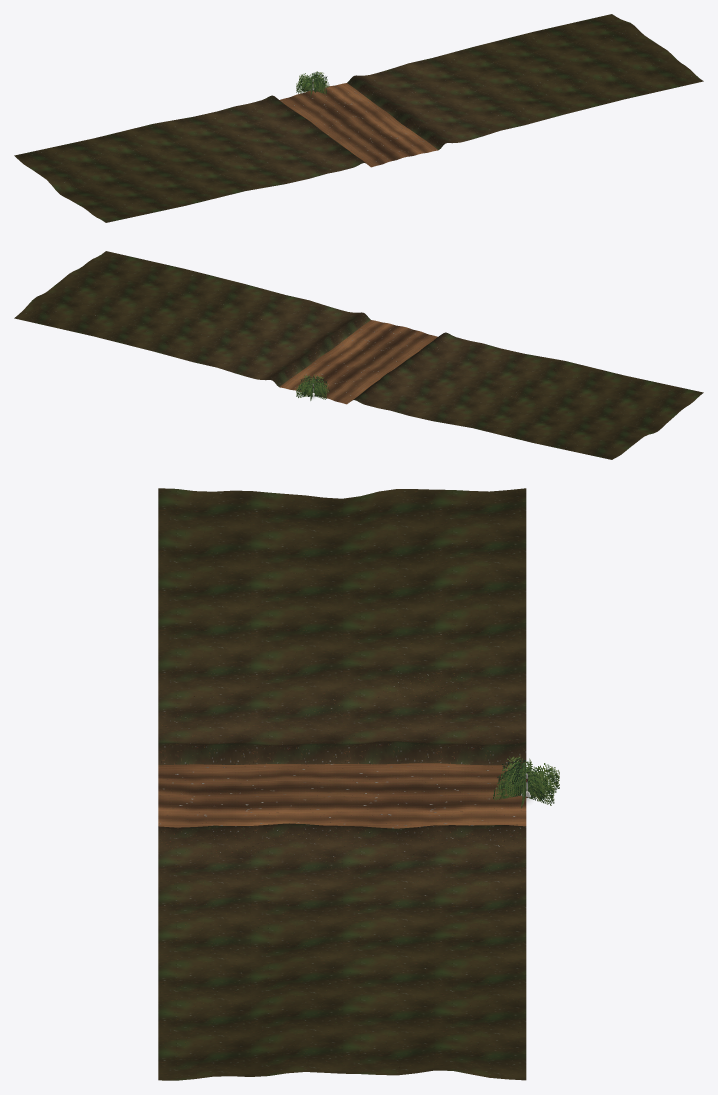
The model's file is estrada_terra_psx.glb.
3 views of the same model, one above another, from view 1: azimuth 30°, elevation 25°; view 2: azimuth 150°, elevation 25°; view 3: azimuth 270°, elevation 25° (orthographic). The views are drawn at different scales.
Visible parts, largest first — view 1: Estrada_Segmento, Palmeira_Peq; view 2: Estrada_Segmento, Palmeira_Peq; view 3: Estrada_Segmento, Palmeira_Peq.
Part boxes in pixels (x1,y1,x2,y2): Estrada_Segmento: [14, 14, 703, 222]; Palmeira_Peq: [296, 71, 329, 97]; Estrada_Segmento: [14, 251, 703, 459]; Palmeira_Peq: [296, 374, 329, 400]; Estrada_Segmento: [158, 488, 526, 1080]; Palmeira_Peq: [493, 756, 559, 808].
Size of the model in its own units: 60 by 2.35 by 17.45.
Materials: 6 (5 with a texture image).
